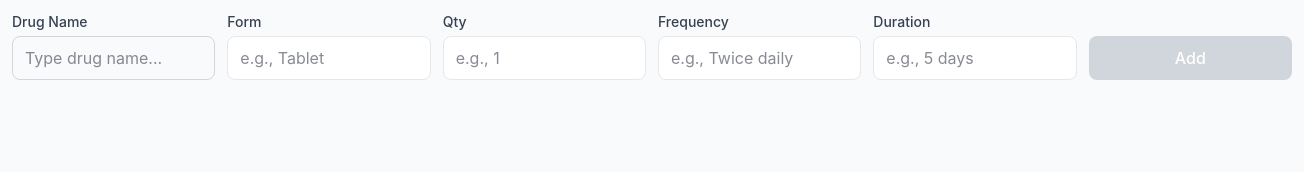
Test case: MedicationEntry keyboard navigation › shows "Searching..." while isSearching is true
Type "aug" into the field with placeholder "Type drug name...". click: (114, 58)
box: [12,36,215,80]
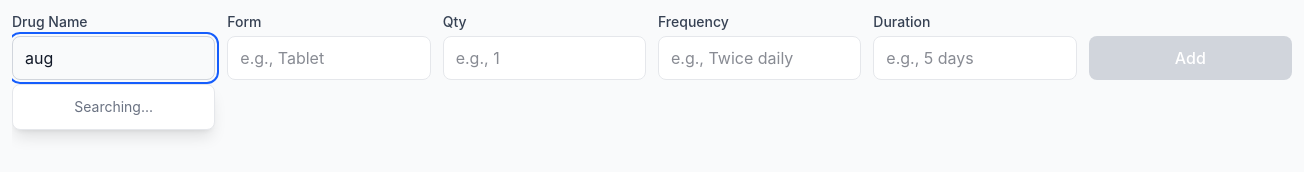
Expected: the text "Searching..." is shown, [74,98,153,115]
